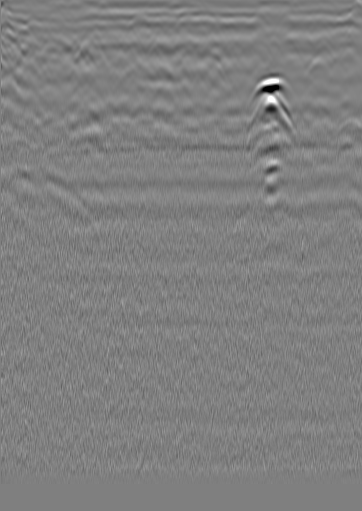가스: (251, 161, 285, 200)
상수: (6, 34, 26, 54)
오수: (314, 33, 334, 53)
우수: (149, 42, 169, 62)
